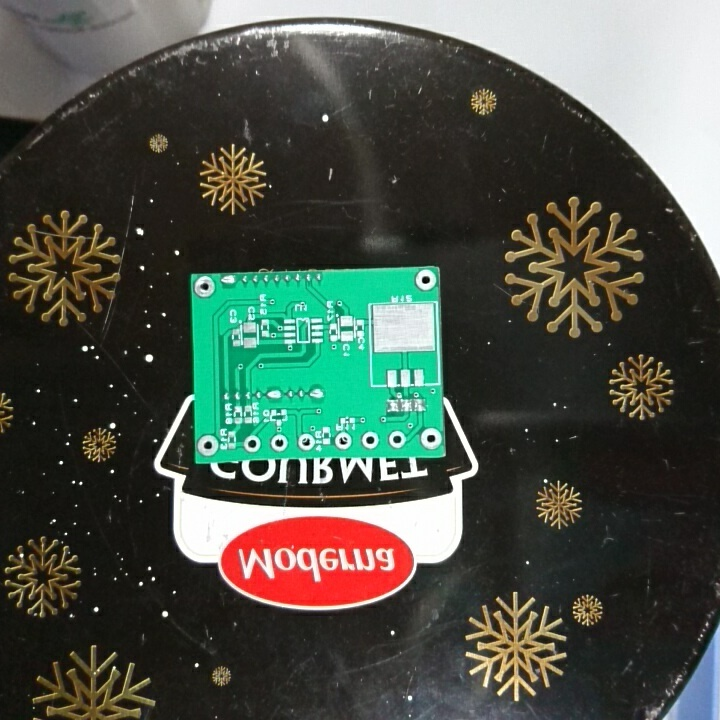F: (412, 268, 438, 293), (197, 432, 221, 459), (419, 427, 443, 451), (192, 275, 215, 299), (359, 429, 381, 452), (241, 432, 263, 454), (332, 430, 354, 452), (269, 432, 290, 453), (296, 431, 317, 452), (387, 429, 407, 449)
P: (306, 385, 326, 402), (217, 273, 239, 287), (264, 386, 284, 401)
